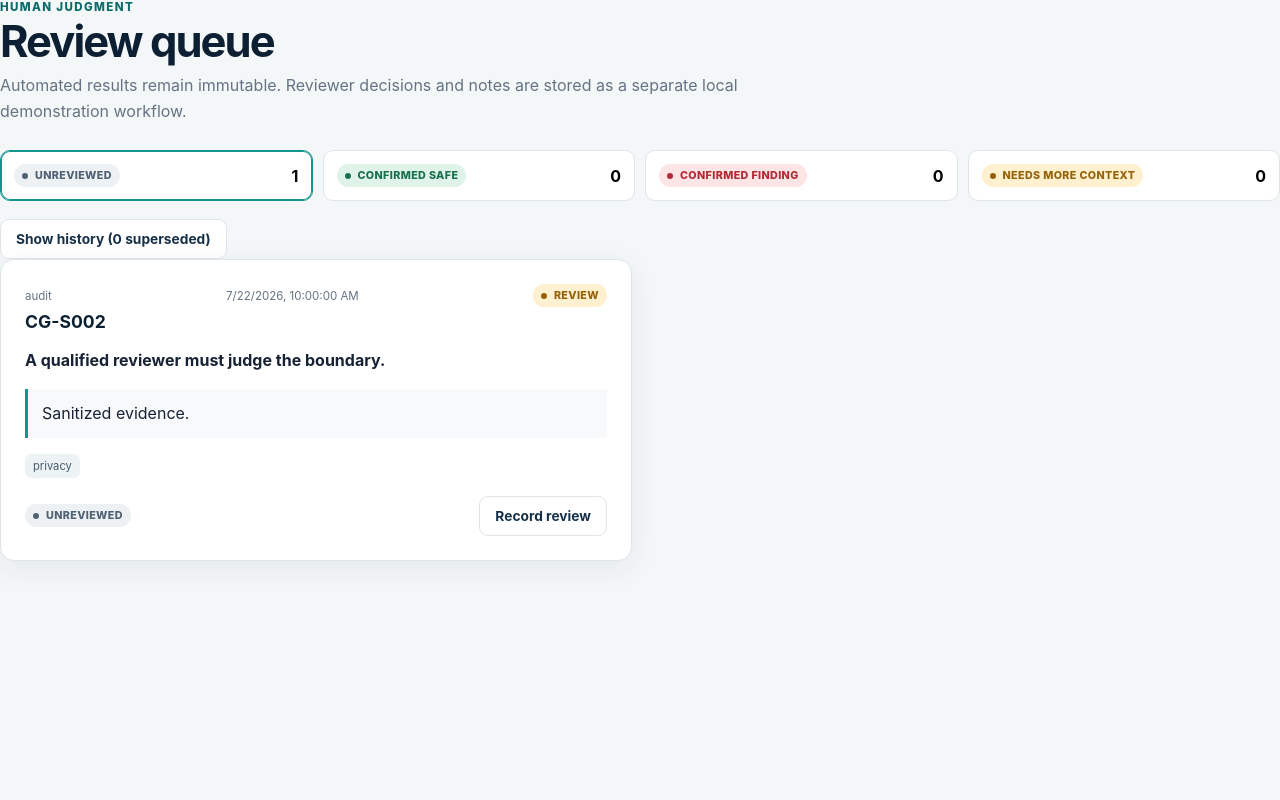
Scenario: Stage 3 safety-critical UI › keeps reviewer decisions separate from the automated REVIEW result
The width and height of the screenshot is (1280, 800).
Expected: the element named "Status: REVIEW" is shown, left=533, top=284, right=607, bottom=307
Click the button "Record review" at (543, 516), box left=479, top=496, right=607, bottom=536
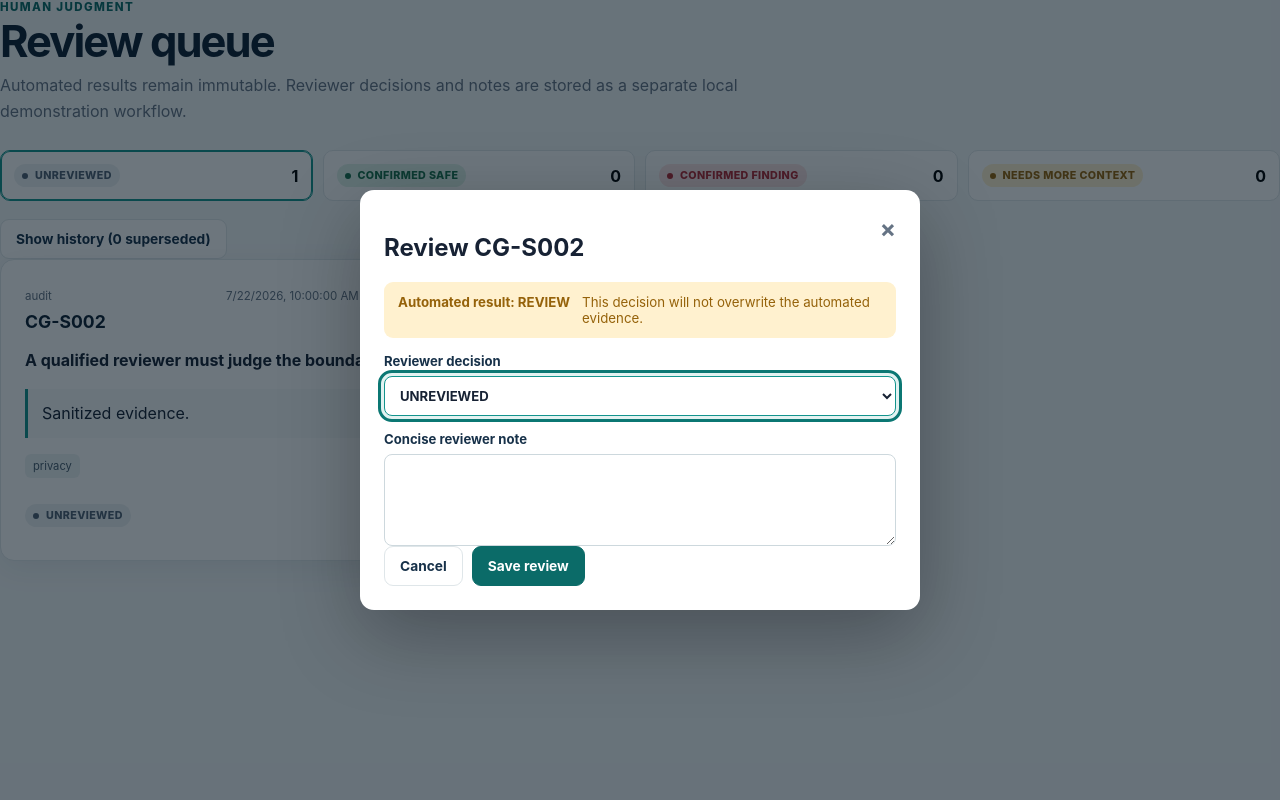
Result: the text "Automated result: REVIEW" is shown at left=398, top=294, right=570, bottom=310
Press Escape
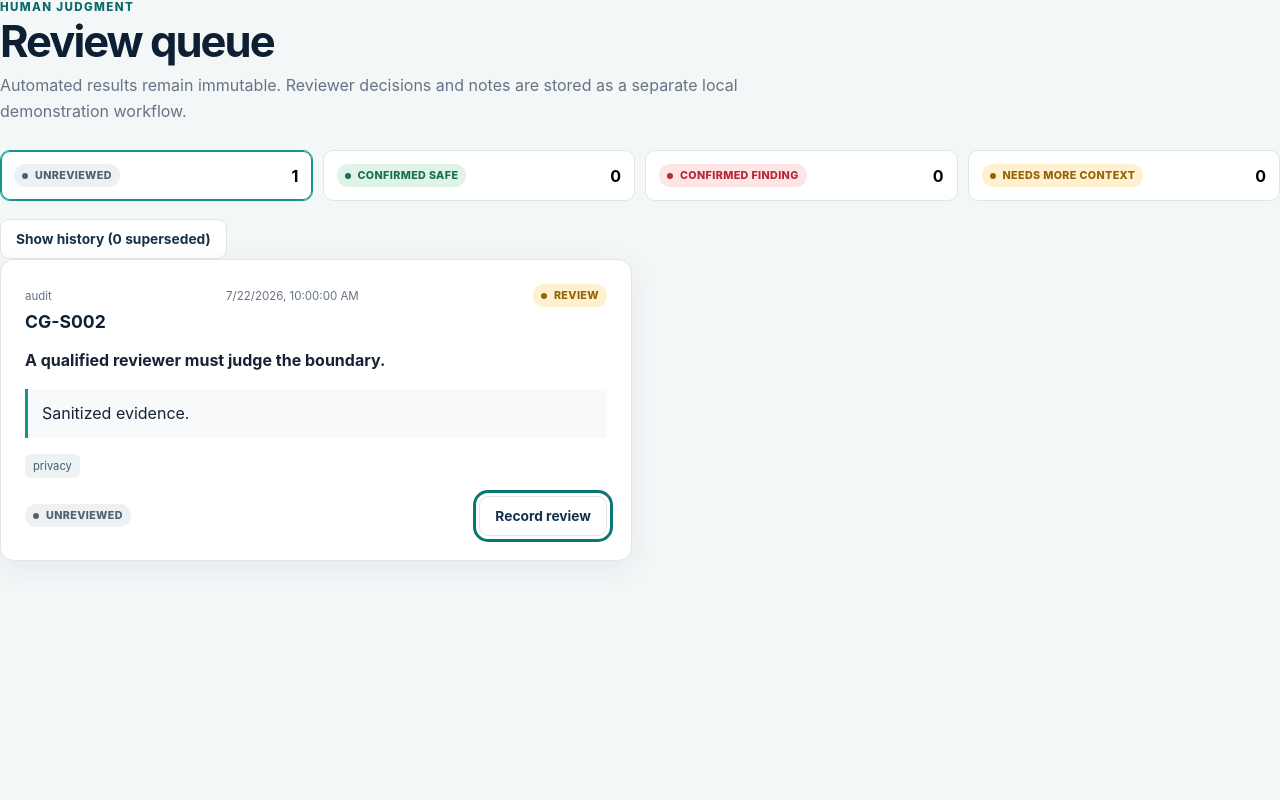
Result: the dialog is gone
